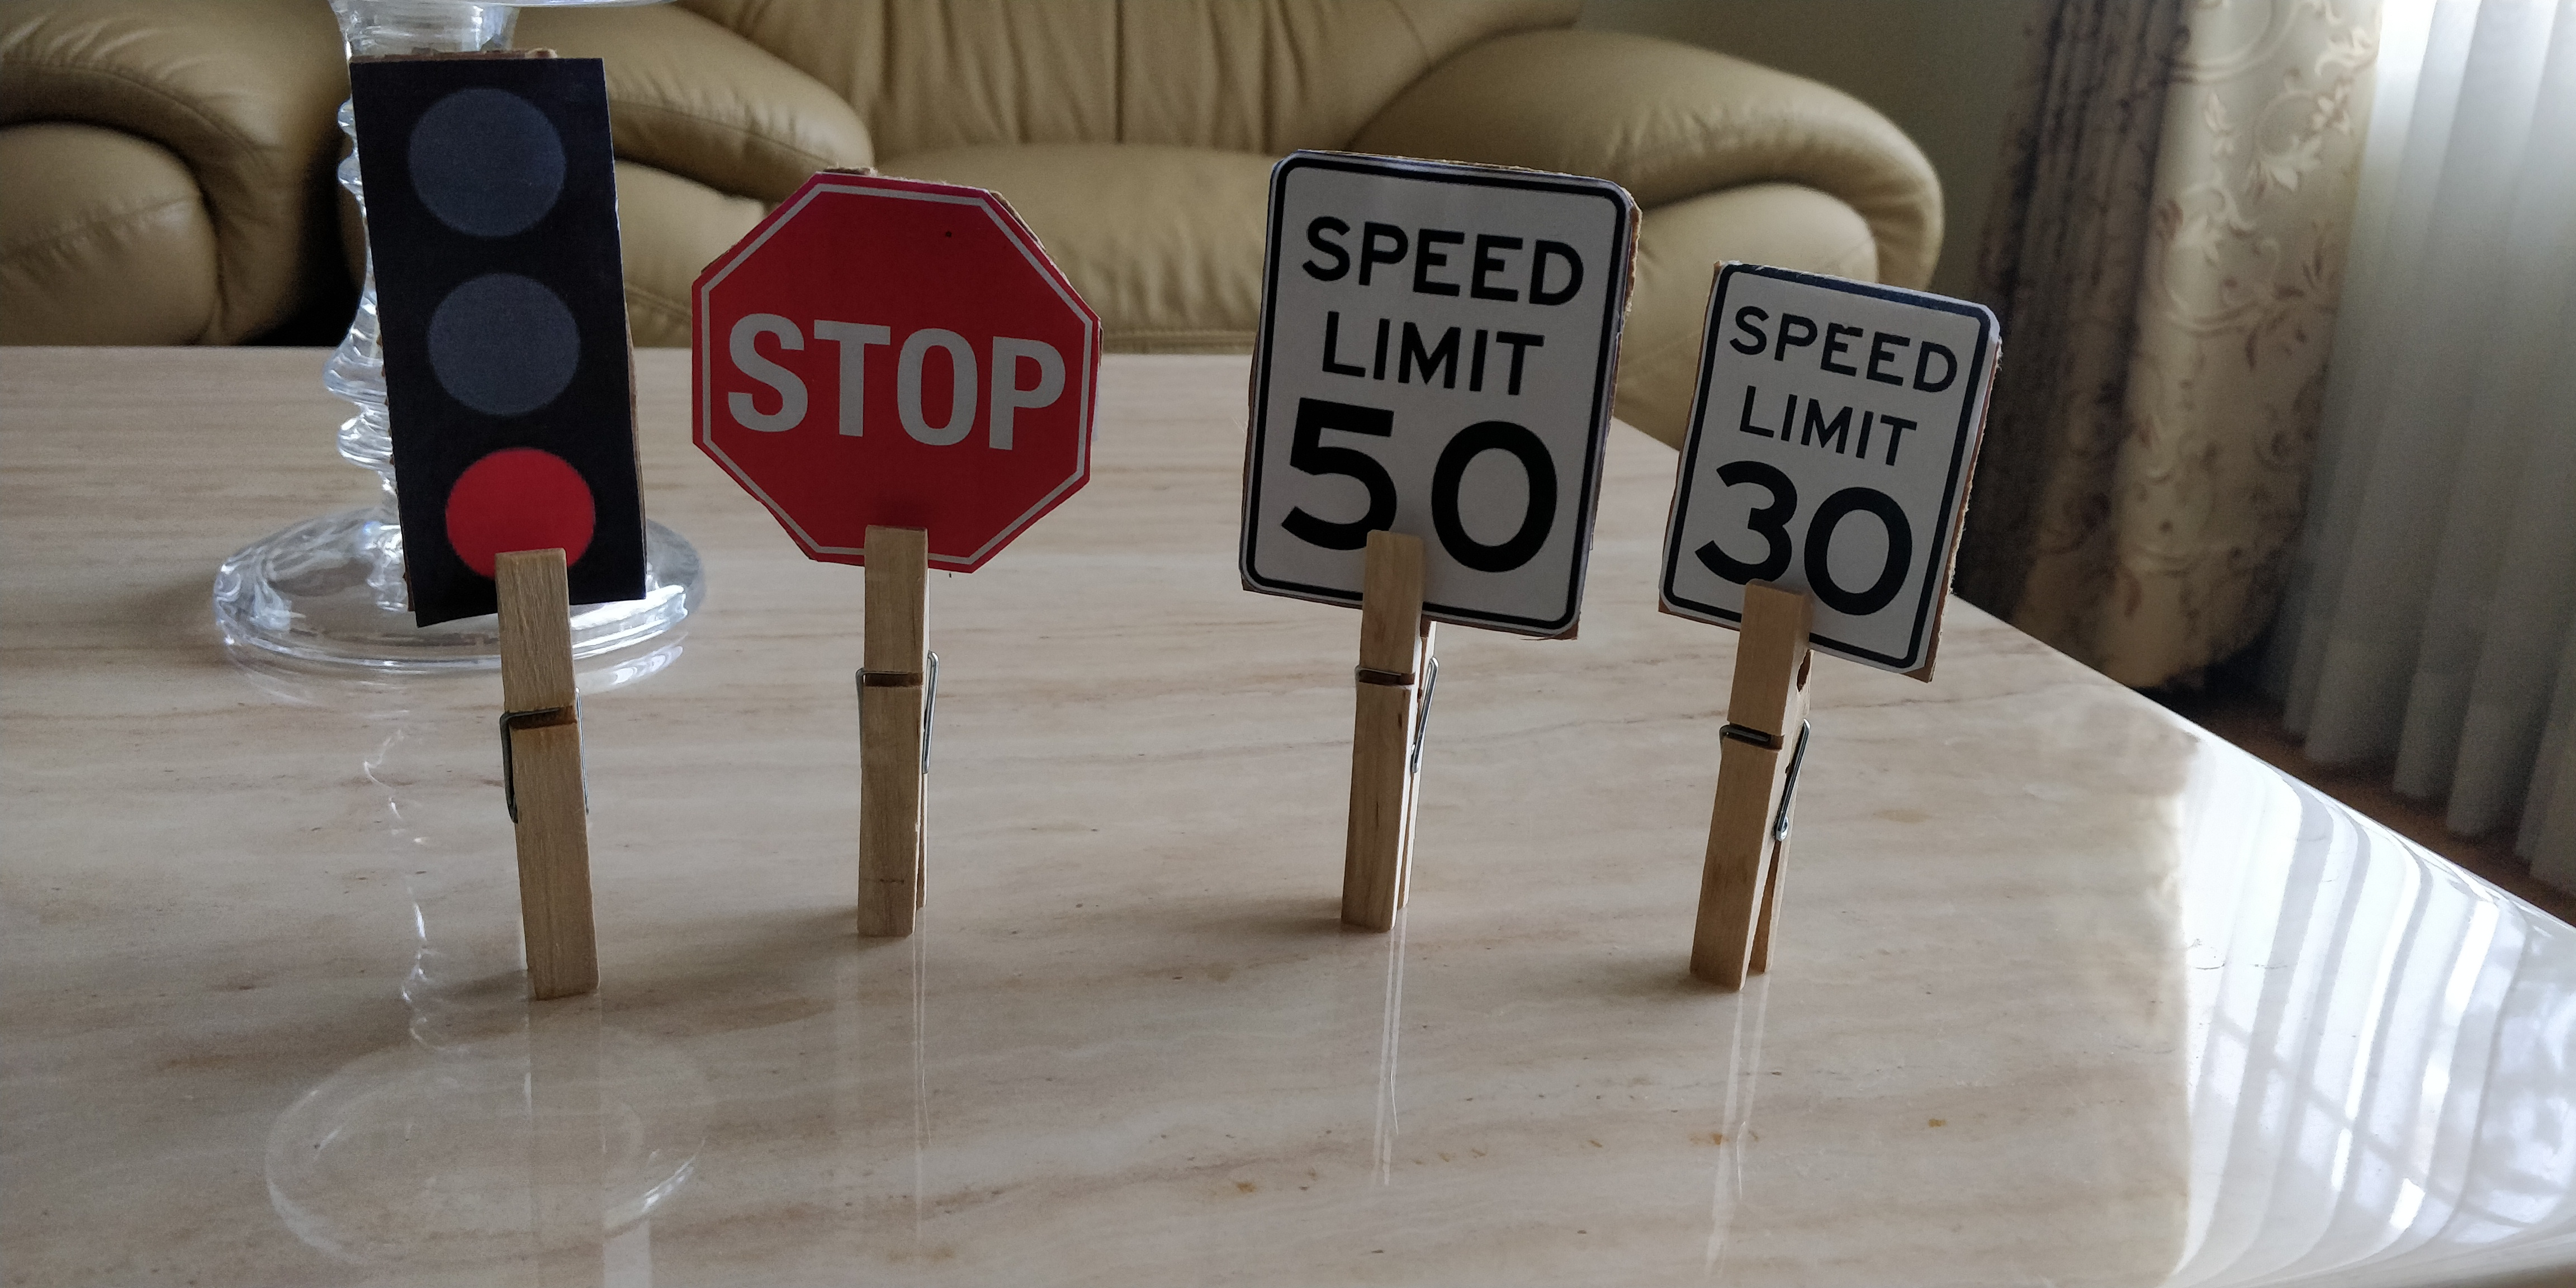Speed Limit 30: (1659, 264, 1999, 669)
Speed Limit 50: (1242, 151, 1644, 639)
Stop Sign: (688, 174, 1099, 572)
red light: (347, 59, 642, 623)
